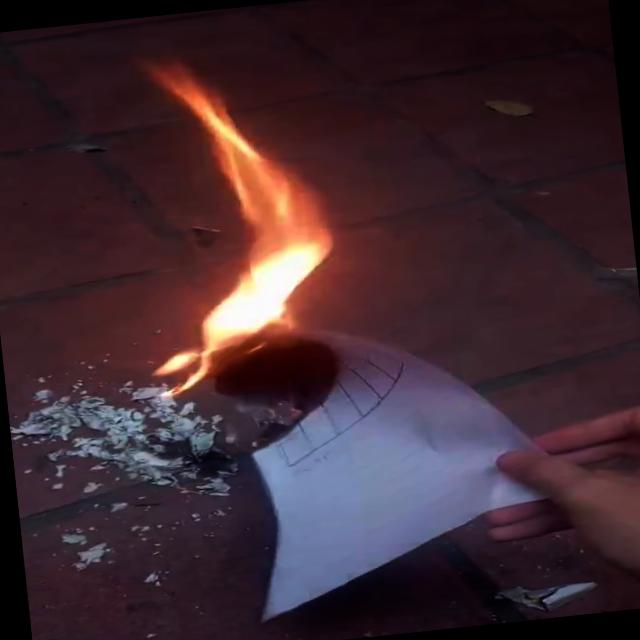Fire_Dangerous: (126, 45, 351, 424)
